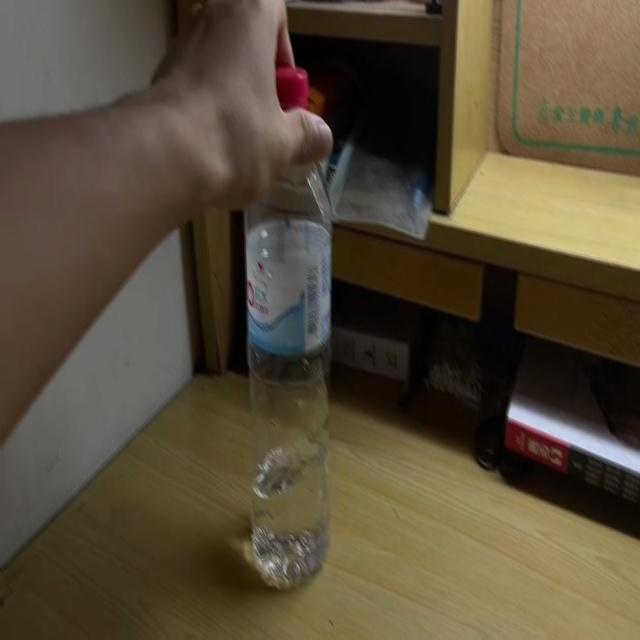Water: (243, 67, 332, 590)
